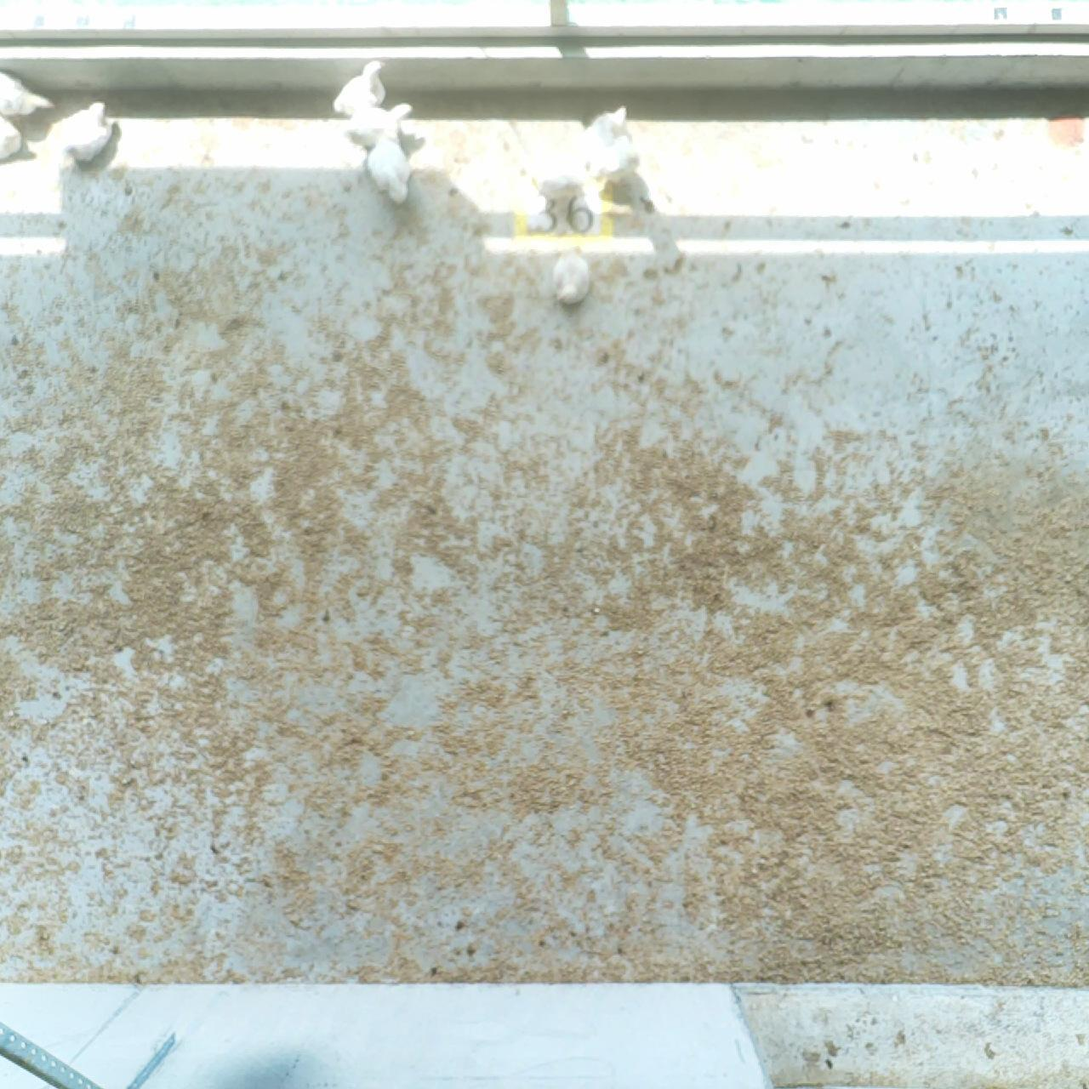chicken: (33, 101, 115, 173), (332, 59, 391, 123), (347, 102, 419, 149), (367, 138, 412, 206), (579, 106, 631, 163), (1, 68, 54, 119), (584, 136, 639, 181), (551, 244, 591, 305), (539, 157, 584, 204), (1, 115, 25, 162)
